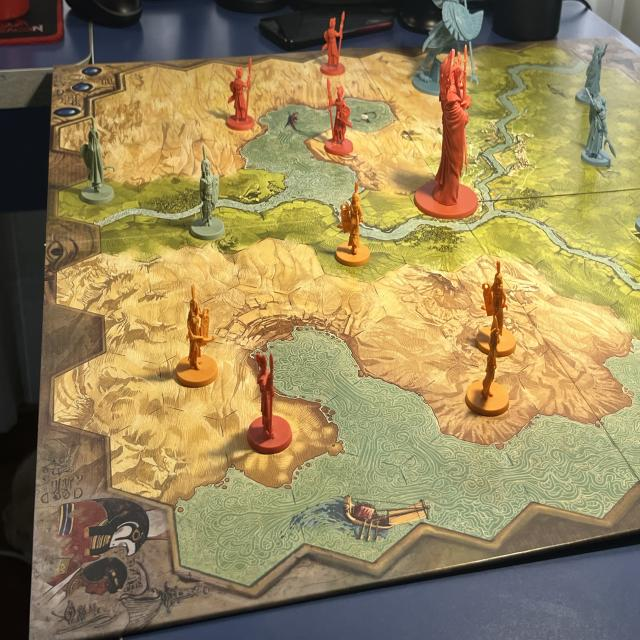amon: (412, 42, 480, 215)
amon_follower: (244, 336, 294, 459), (320, 74, 360, 157), (220, 53, 259, 126), (317, 3, 348, 76)
isis: (412, 1, 482, 97)
isis_follower: (579, 84, 618, 171), (572, 32, 614, 98)
